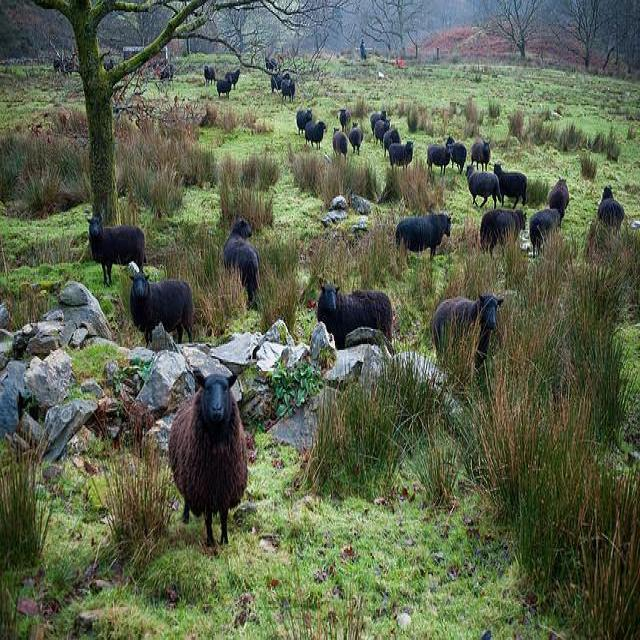Sheep: (51, 57, 570, 216), (170, 365, 250, 550), (123, 262, 203, 358), (318, 282, 393, 350), (432, 295, 504, 362), (87, 215, 148, 287), (224, 215, 265, 311), (396, 216, 451, 269), (529, 209, 562, 261)
